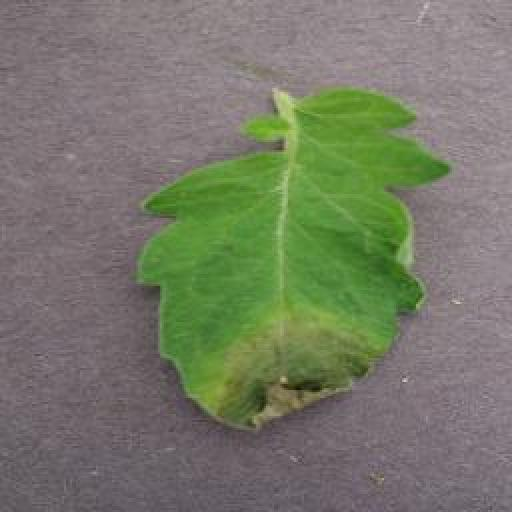Late Blight: (134, 85, 454, 436)
